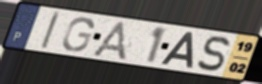1: (147, 25, 168, 65)
A: (89, 20, 128, 63), (159, 30, 196, 70)
G: (61, 16, 96, 53)
I: (39, 10, 62, 51)
S: (195, 35, 232, 73)
